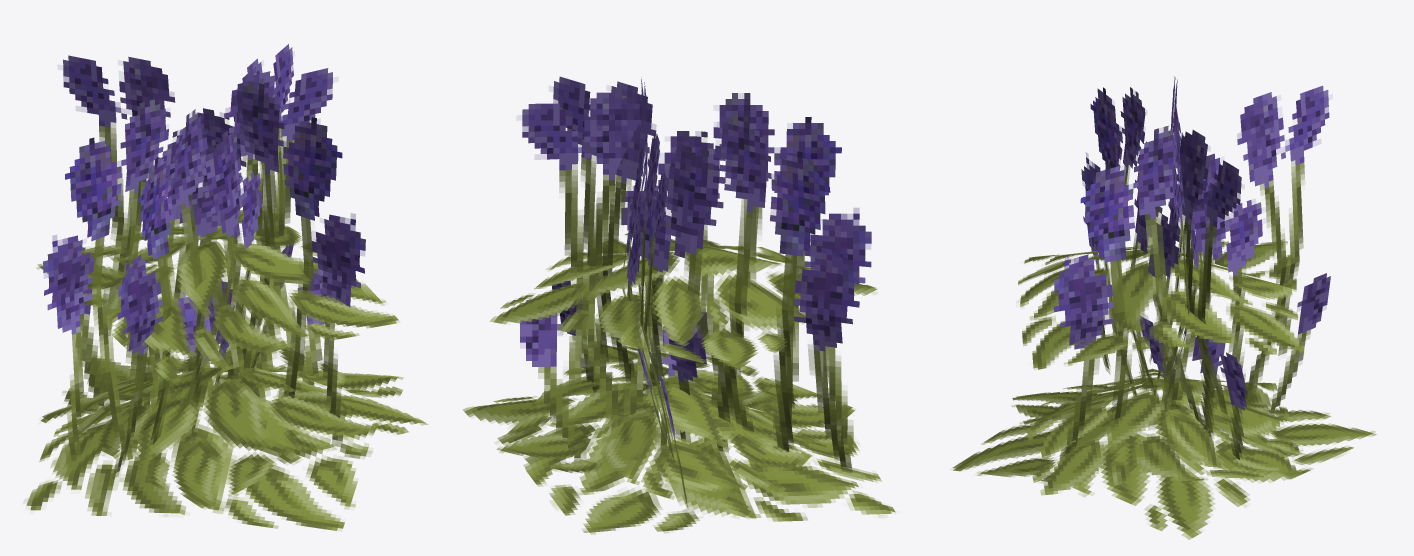
File: flower_purple.glb
The picture shows the model from 3 angles, left to right: view 1: azimuth 30°, elevation 25°; view 2: azimuth 150°, elevation 25°; view 3: azimuth 270°, elevation 25°; orthographic projection. The views are drawn at different scales.
Parts seen in each view (by area): view 1: flower_purple; view 2: flower_purple; view 3: flower_purple.
Boxes of the visible parts, x1,y1,x2,y2 form: flower_purple: (23, 44, 428, 530); flower_purple: (463, 76, 895, 534); flower_purple: (951, 76, 1376, 539).
Size of the model in its own units: 0.7077 by 0.617 by 0.7099.
Materials: 1 (1 with a texture image).
